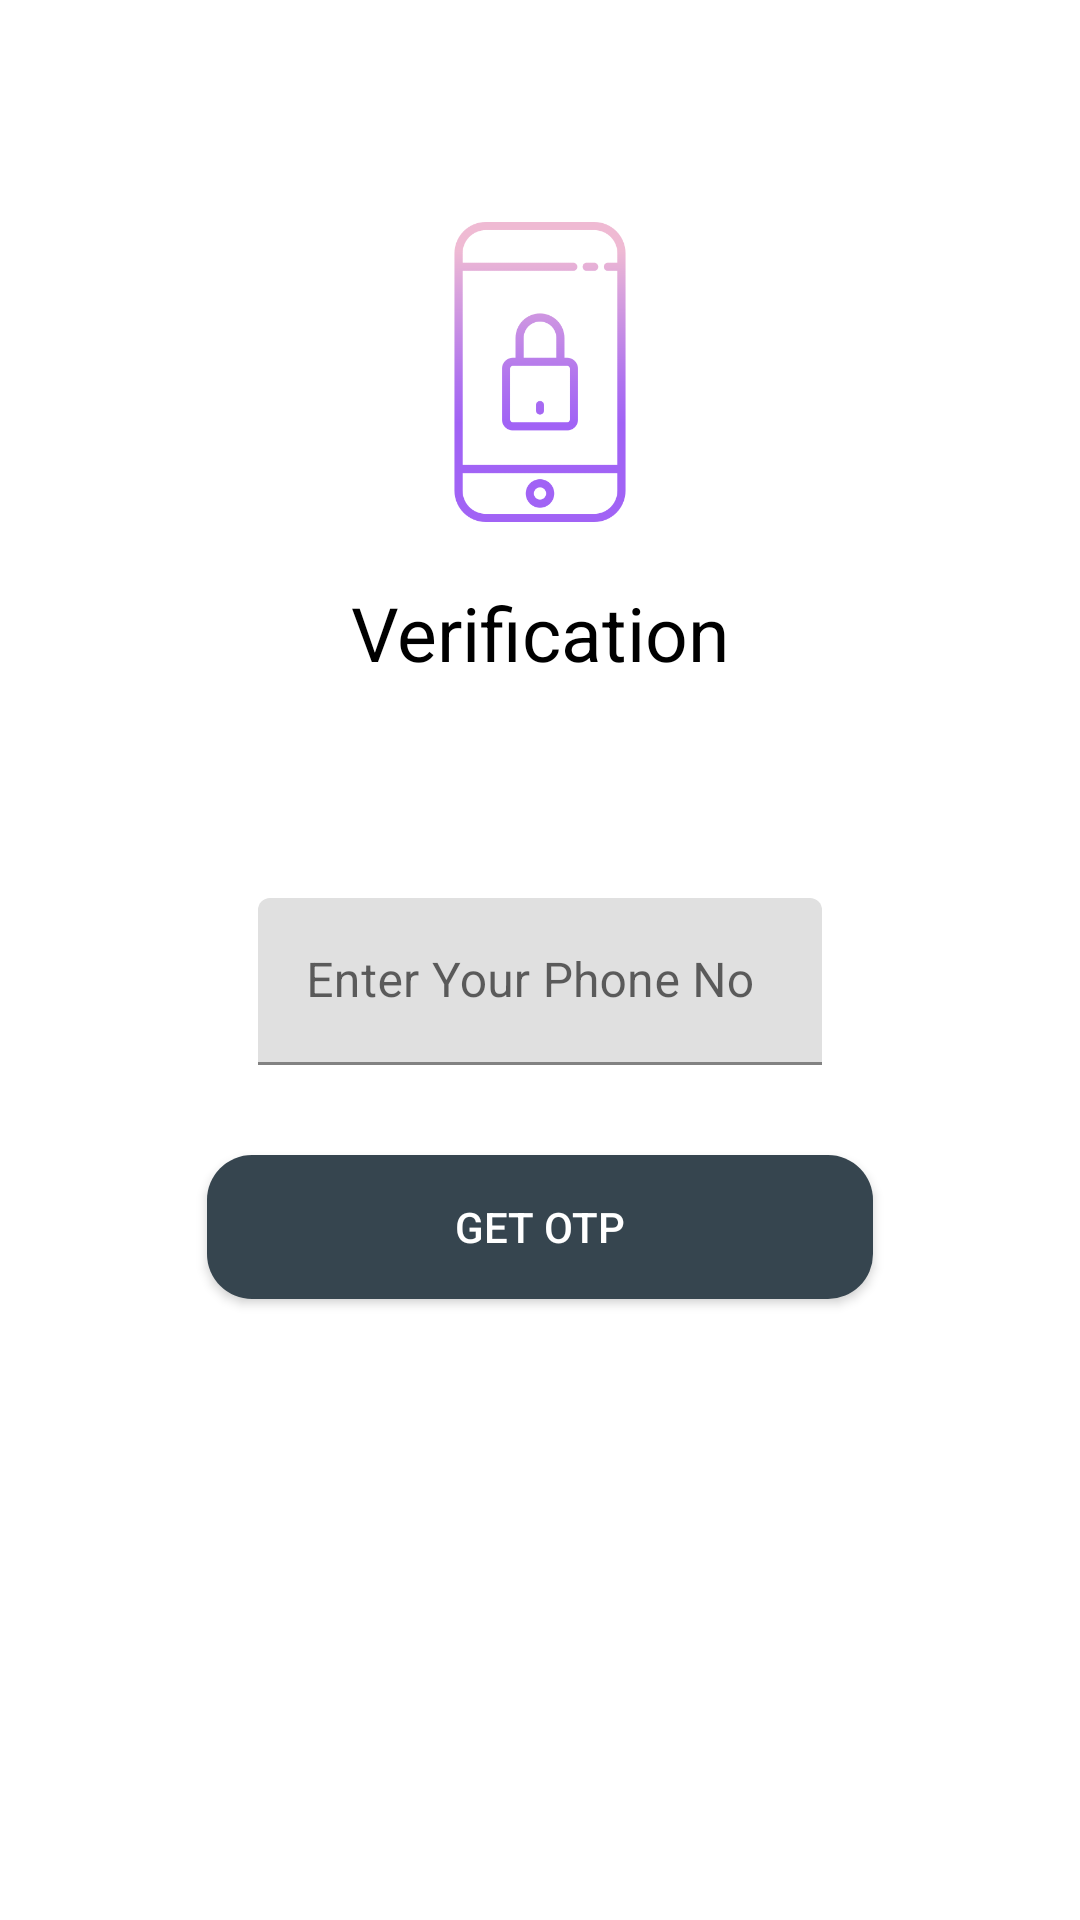

Locate icon controls on the screen. Image size 1080px×1920px, boxes as (x1, y1, x2, y2).
lock: (454, 222, 626, 522)
